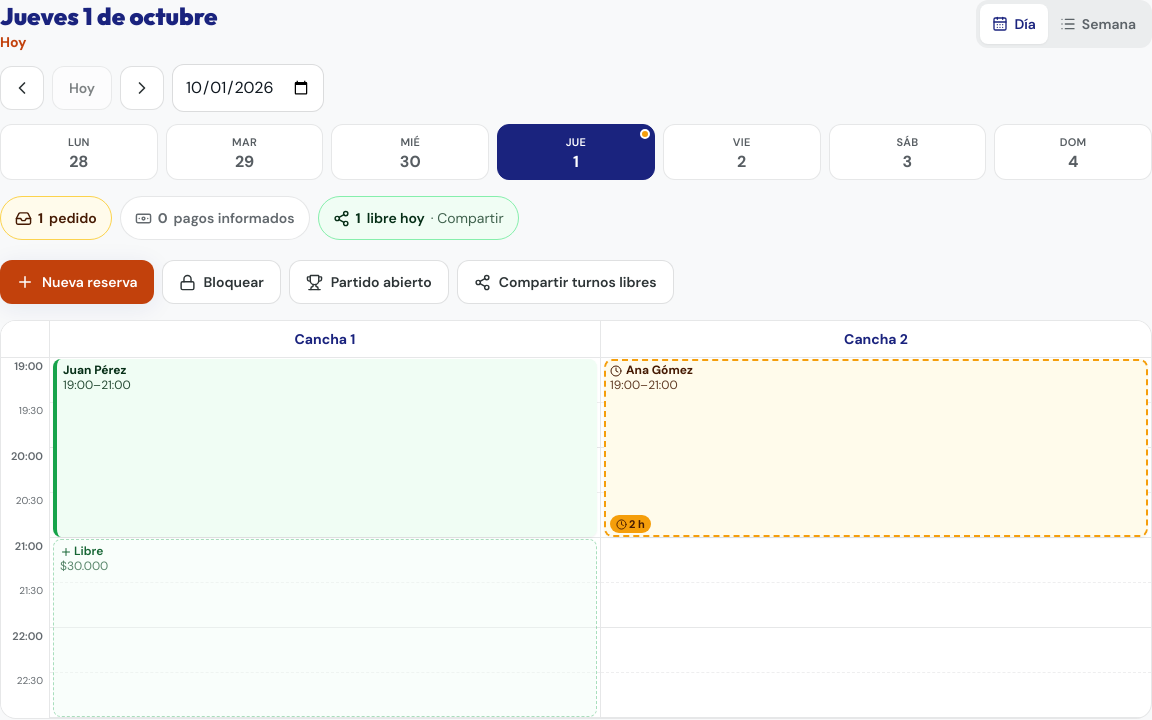
Scenario: agenda del club › avisa con claridad si el pedido venció antes de responderlo
Click the button with aria-label "1 pedido sin responder": (56, 218) [0,196,112,240]
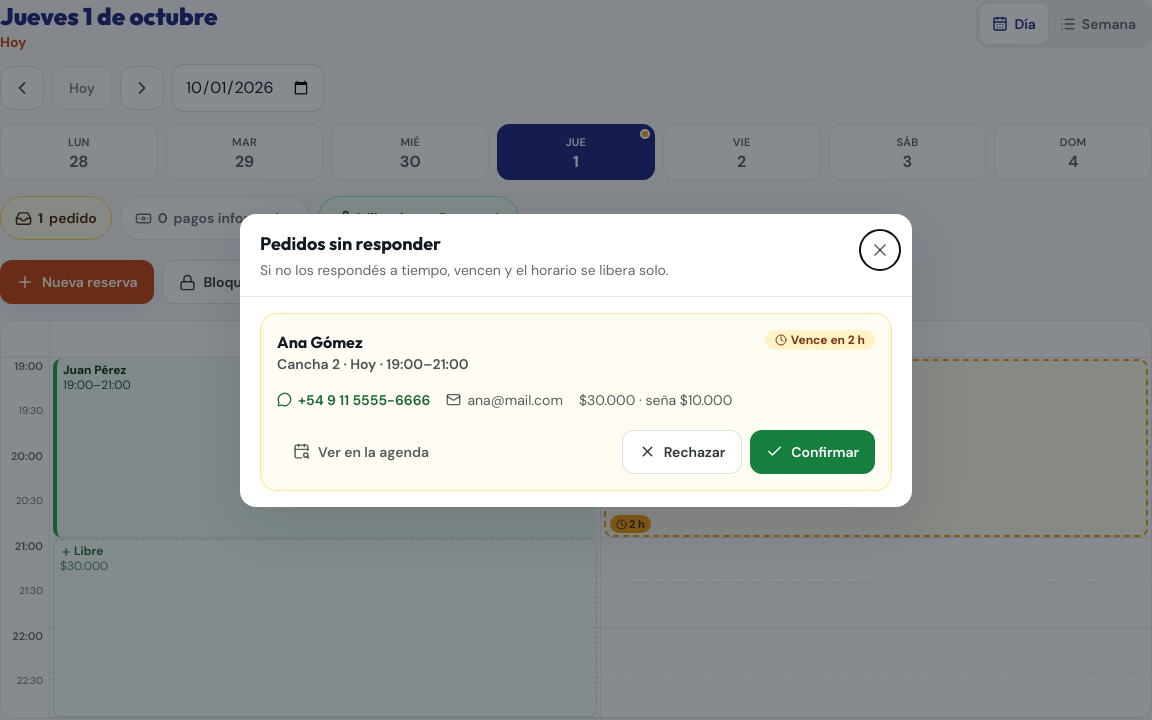
Click the button "Confirmar": (813, 452) [750,430,875,474]
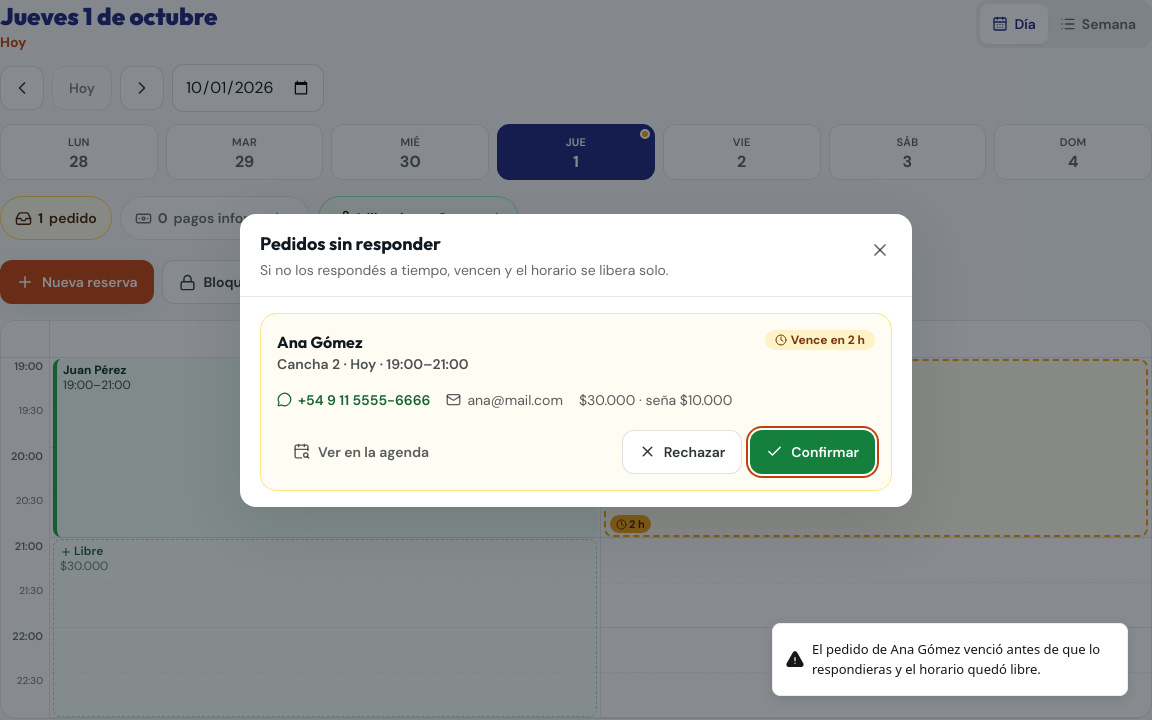
Expected: the text "venció antes de que lo respondieras y el horario quedó libre" is shown, [812,640,1100,678]
